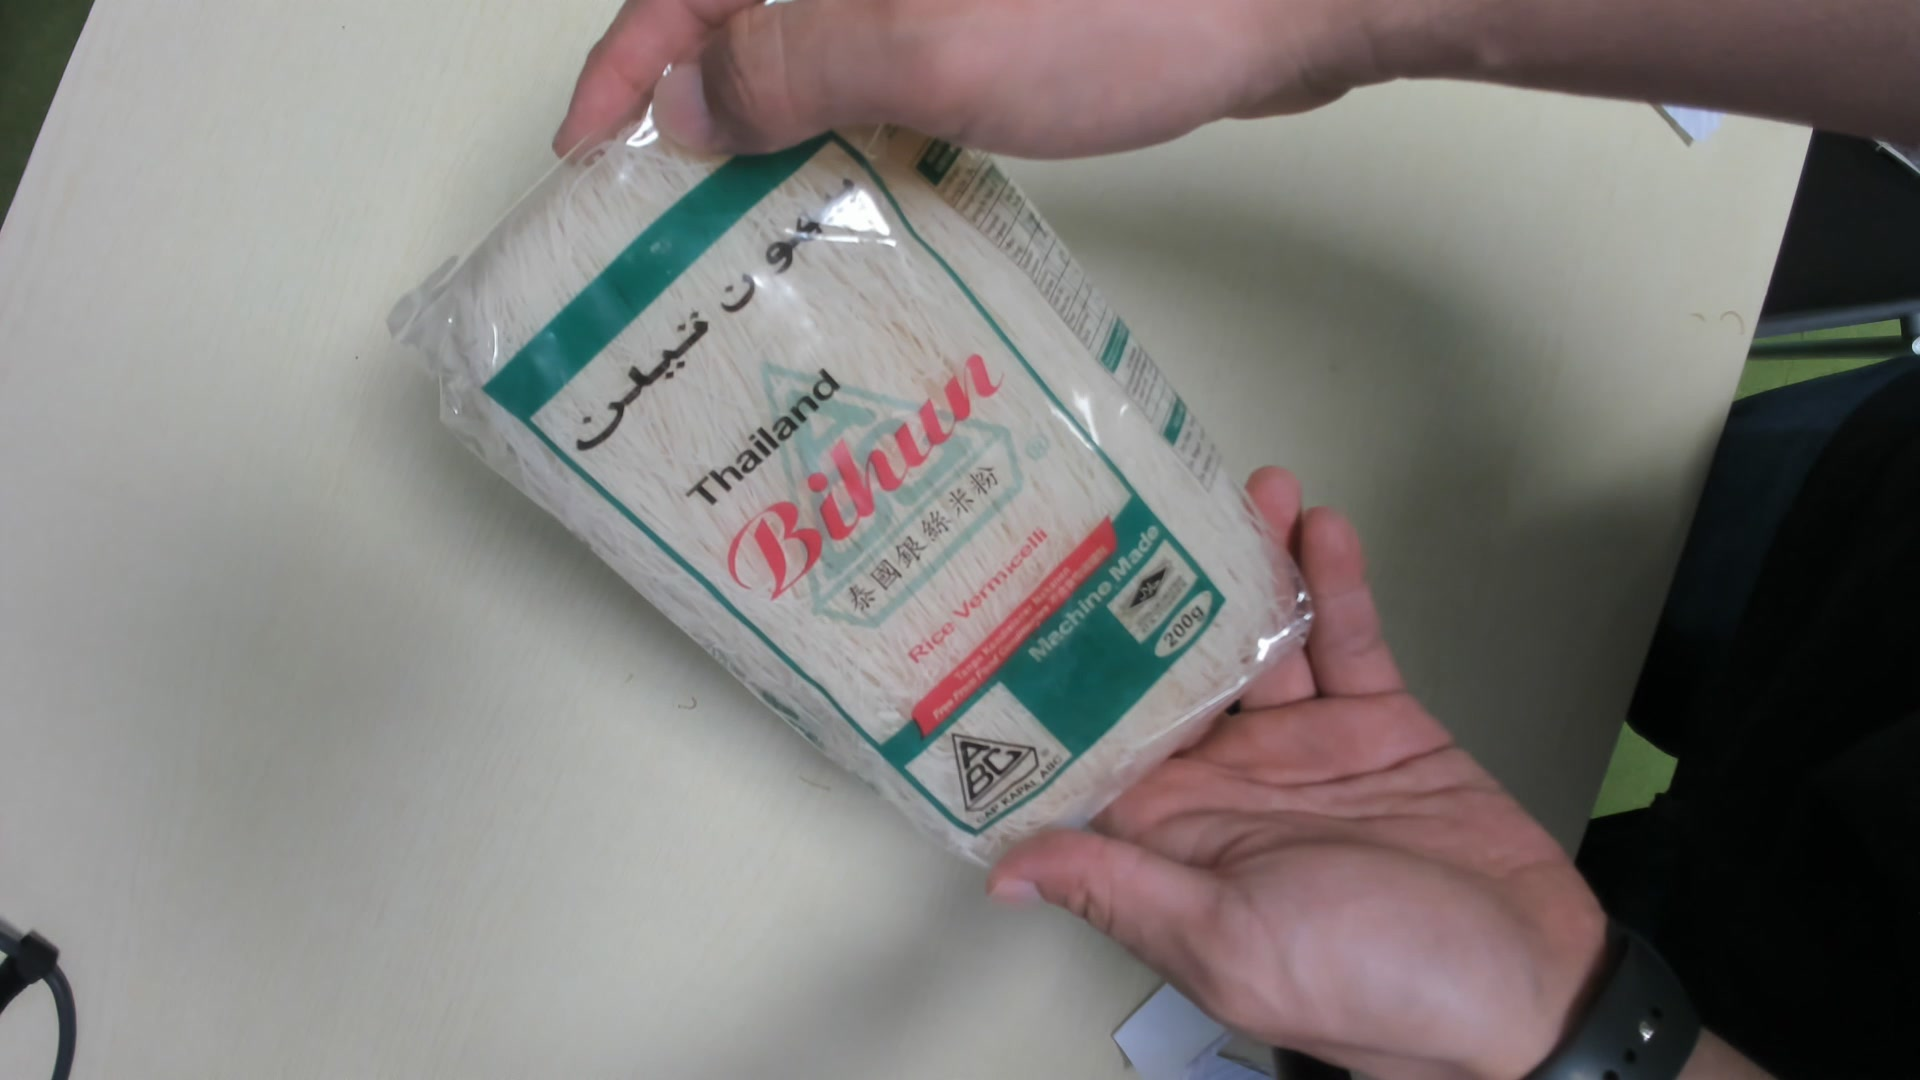BeeHoonVermicelli_200-299g_Halal_NonHealthy: (389, 112, 1321, 880)
